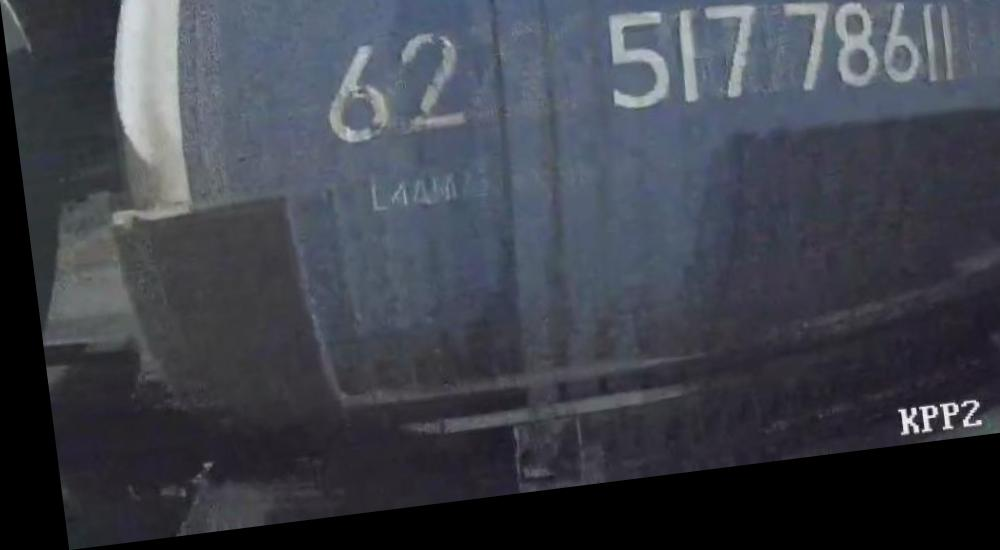Wagon-number: (592, 0, 962, 146)
